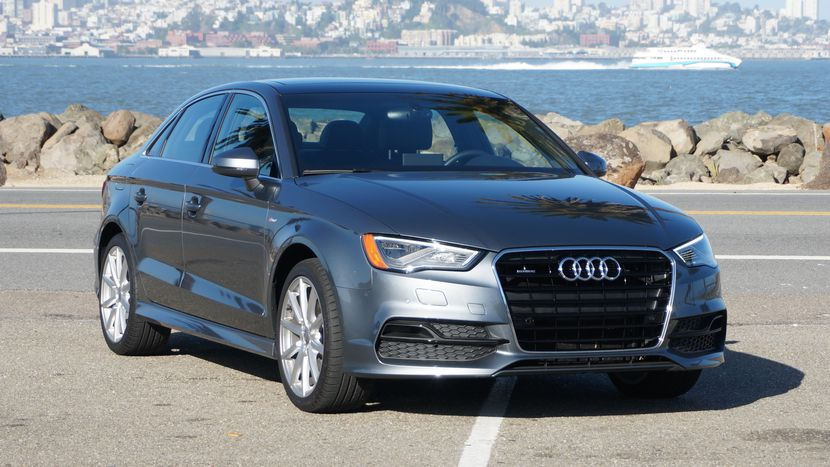audi: (548, 255, 625, 283)
